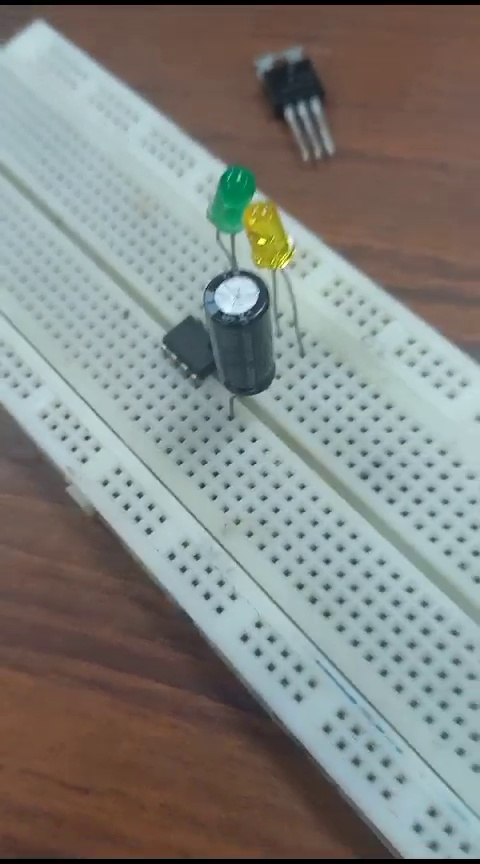IC: (148, 305, 219, 376)
LED: (238, 199, 298, 279), (198, 159, 251, 244)
capacitor: (202, 269, 280, 401)
voltage regulator: (243, 44, 355, 160)
